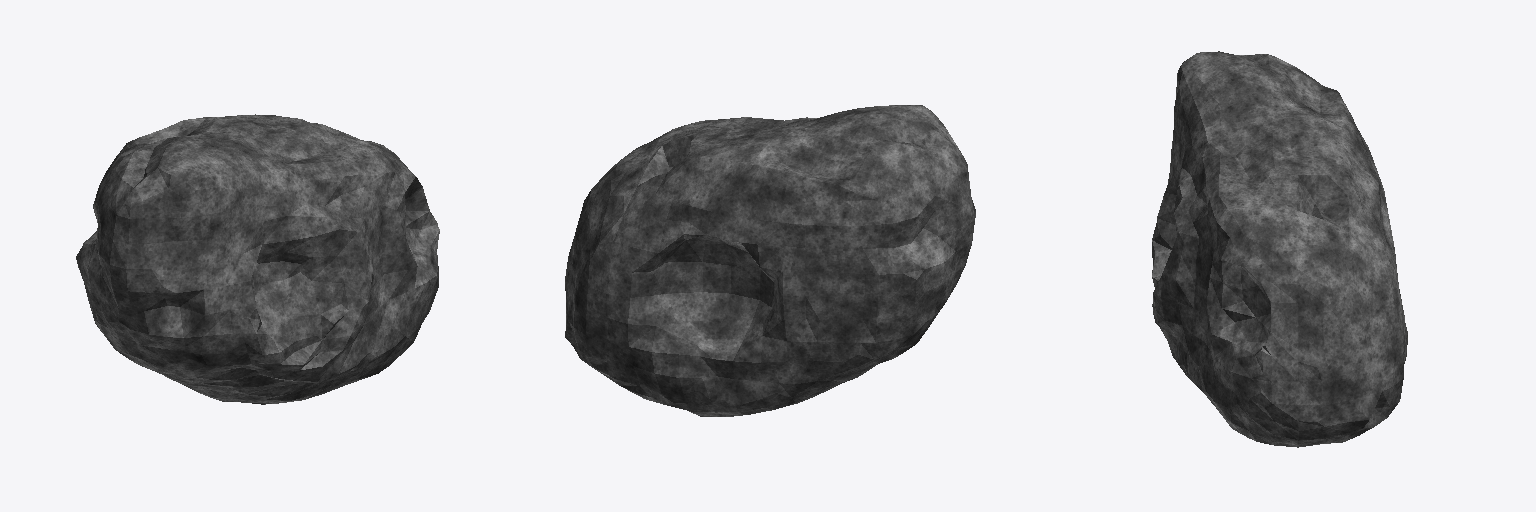
3 views of the same model, side by side, from view 1: azimuth 30°, elevation 25°; view 2: azimuth 150°, elevation 25°; view 3: azimuth 270°, elevation 25° (orthographic).
Parts seen in each view (by area): view 1: Asteroid_Low; view 2: Asteroid_Low; view 3: Asteroid_Low.
Part boxes in pixels (x1,y1,x2,y2): Asteroid_Low: (76, 114, 439, 404); Asteroid_Low: (565, 105, 975, 416); Asteroid_Low: (1152, 51, 1407, 447).
Bounding box in the file's own units: 6.16 × 4.96 × 3.86.
Materials: 1 (1 with a texture image).